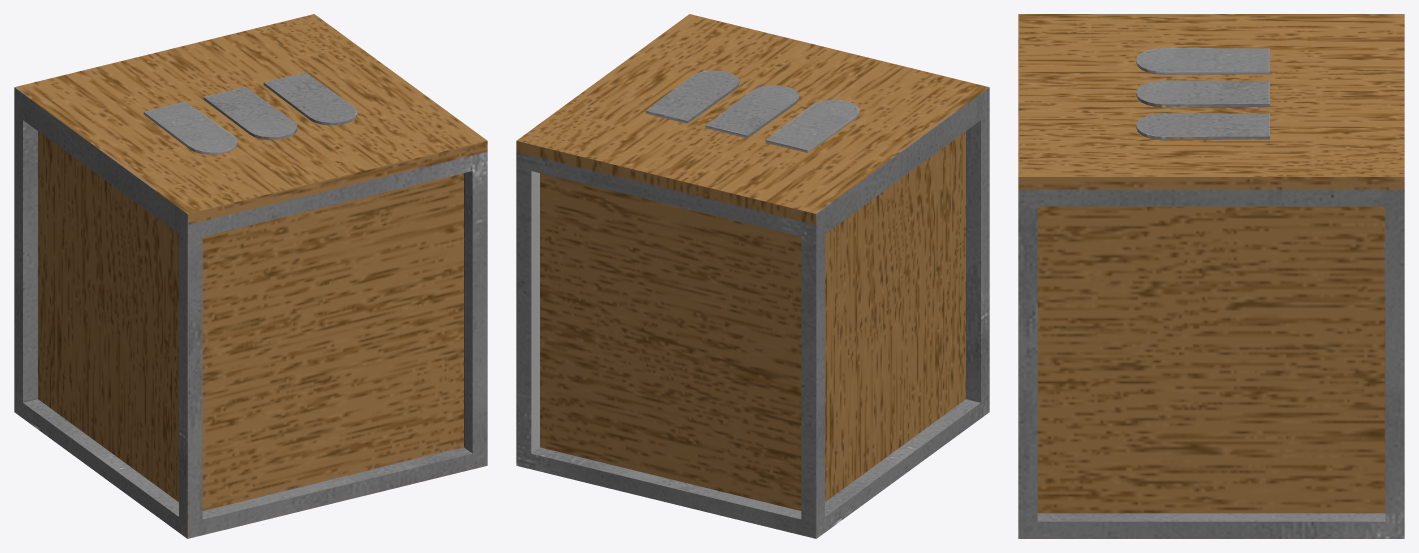
File: ammocrate.gltf
3 views of the same model, side by side, from view 1: azimuth 30°, elevation 25°; view 2: azimuth 150°, elevation 25°; view 3: azimuth 270°, elevation 25° (orthographic). The views are drawn at different scales.
Visible parts, largest first — view 1: Cube.001; view 2: Cube.001; view 3: Cube.001.
Part boxes in pixels (x1,y1,x2,y2): Cube.001: (14, 14, 487, 538); Cube.001: (516, 14, 989, 538); Cube.001: (1018, 14, 1404, 538).
Size of the model in its own units: 2 by 2.09 by 2.
1 material, 1 textured.
